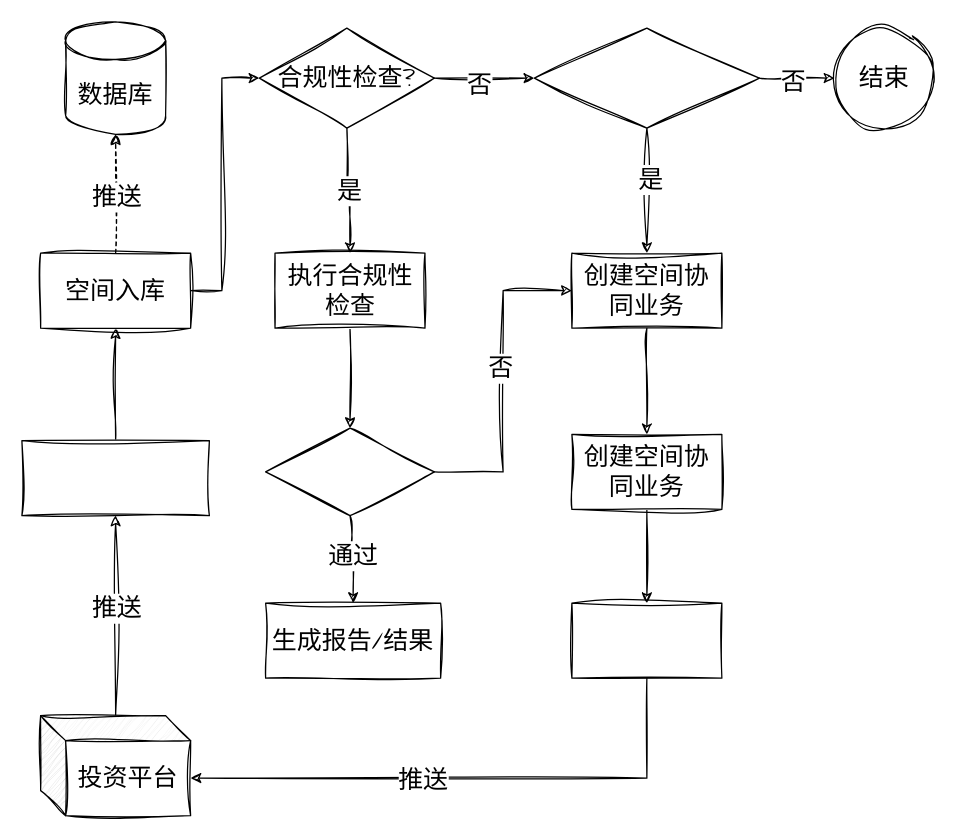
Image size: 956x838. Some labels were removed from this diagram. Each missing label, with the box of its shape:
储备项目: (21, 439, 209, 516)
创建空间协同?: (533, 27, 759, 128)
推送空间协调结果: (571, 602, 722, 678)
是否通过?: (264, 427, 434, 516)
